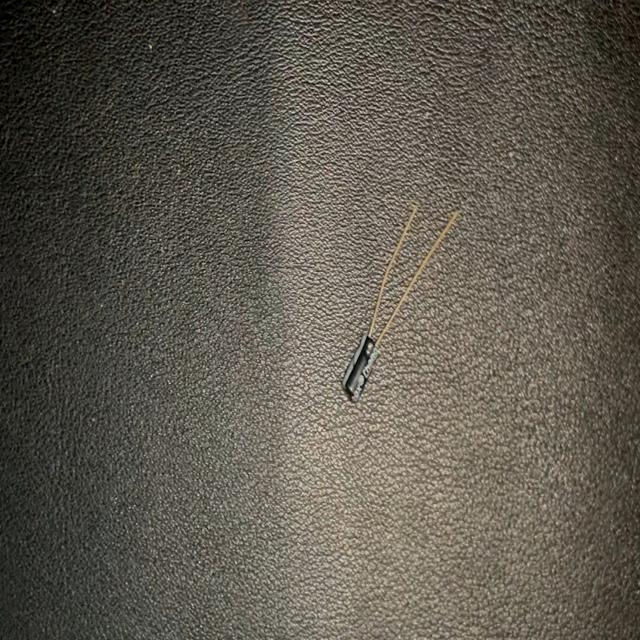capacitor: (340, 200, 463, 409)
